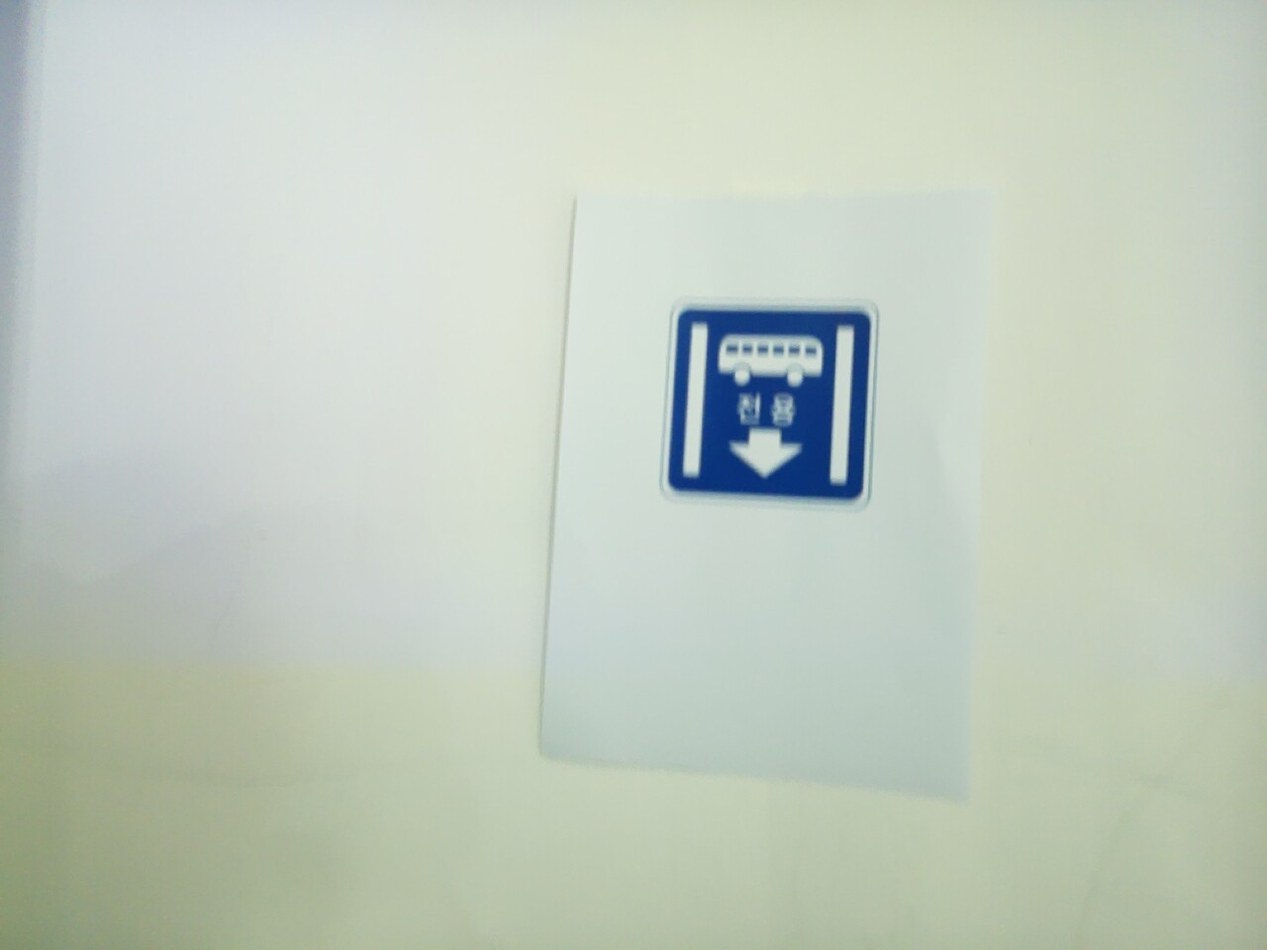bus_only_lane: (660, 302, 879, 508)
